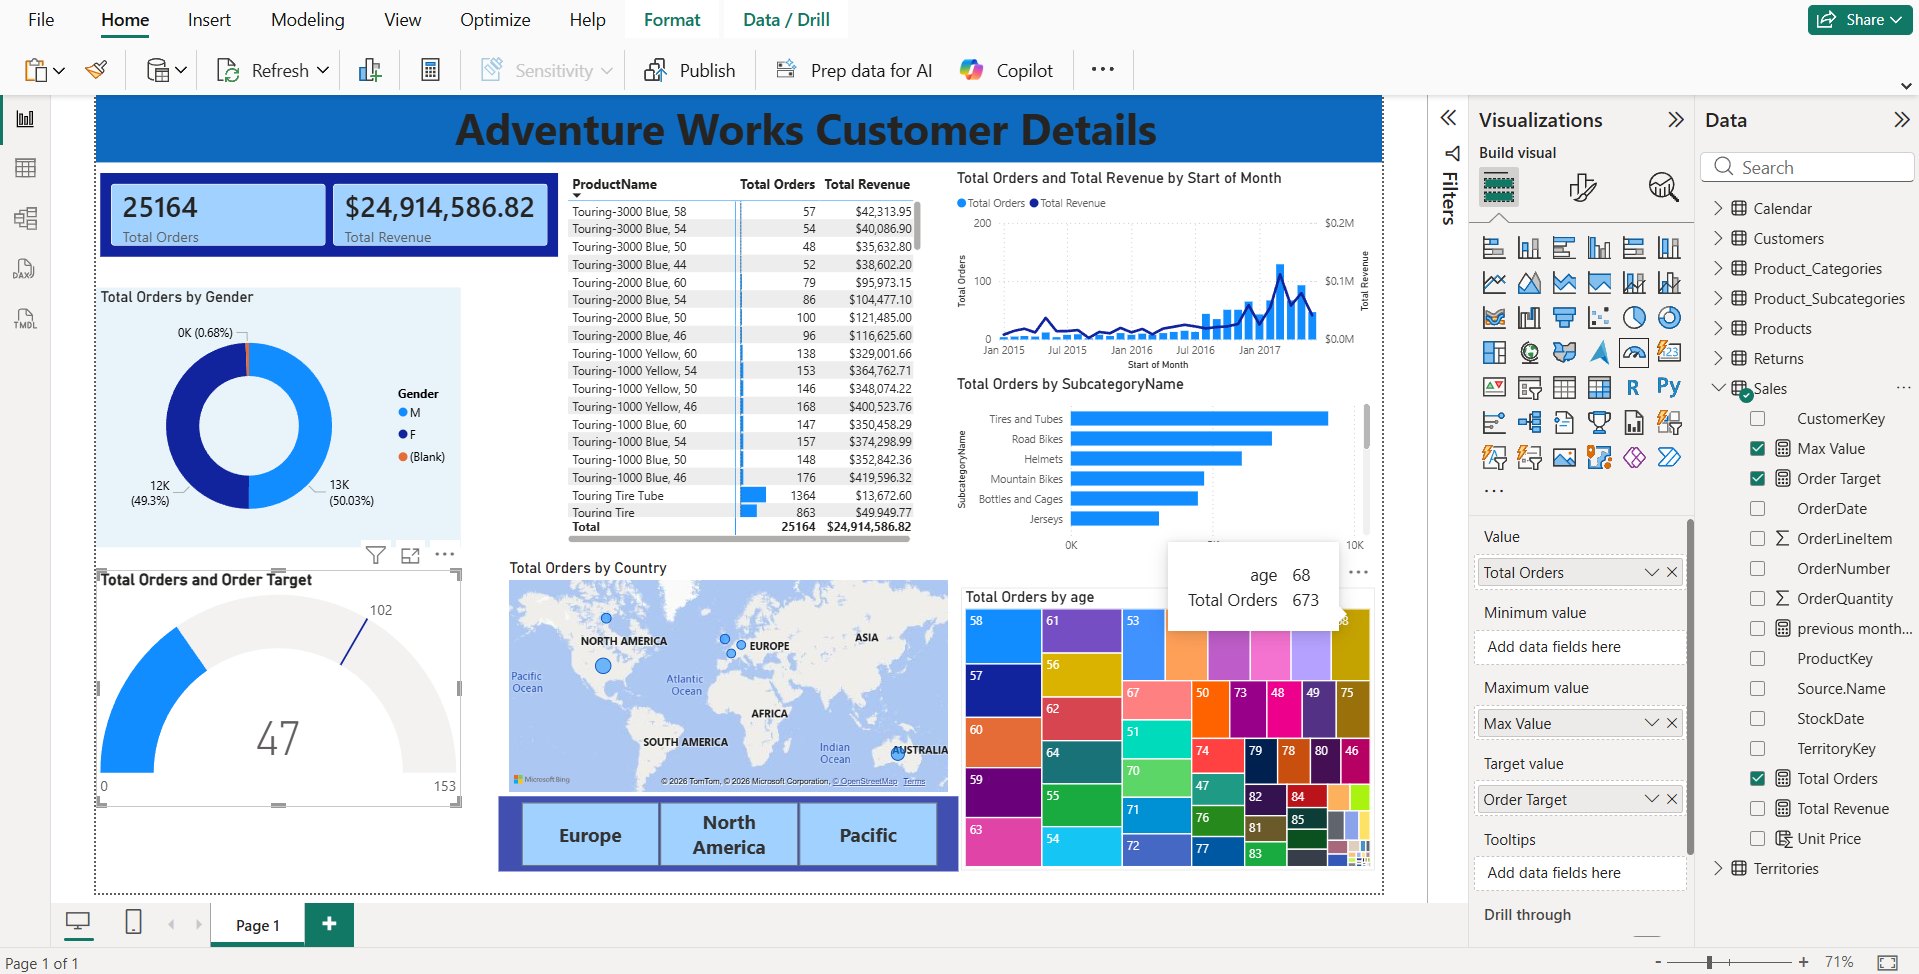

What the dashboard file says about the page in this screenshot:
{"tool":"powerbi","page":{"name":"Page 1","canvas":[1450,900],"ordinal":0},"visuals":[{"type":"donutChart","fields":{"Category":["Customers.Gender"],"Y":["Sales.Total Orders"]},"box":[0,217,411.4,293.1],"z":0},{"type":"pivotTable","fields":{"Rows":["Products.ProductName"],"Values":["Sales.Total Orders","Sales.Total Revenue"]},"box":[526.9,83.1,408.6,426.9],"z":1000},{"type":"cardVisual","fields":{"Data":["Sales.Total Orders","Sales.Total Revenue"]},"box":[0,83.1,526.9,104.3],"z":2000},{"type":"lineClusteredColumnComboChart","fields":{"Y2":["Sales.Total Revenue"],"Y":["Sales.Total Orders"],"Category":["Calendar.Start of Month"]},"box":[965.1,83.1,476.2,232.5],"z":3000},{"type":"treemap","fields":{"Group":["Customers.age"],"Values":["Sales.Total Orders"]},"box":[975,555.1,466.3,319.8],"z":4000},{"type":"clusteredBarChart","fields":{"Category":["Product_Subcategories.SubcategoryName"],"Y":["Sales.Total Orders"]},"box":[965.1,315.6,476.2,219.8],"z":5000},{"type":"map","fields":{"Category":["Territories.Country"],"Size":["Sales.Total Orders"]},"box":[461.1,522.3,504,268],"z":6000},{"type":"slicer","fields":{"Values":["Territories.Continent"]},"box":[454.1,790.3,518,85],"z":7000},{"type":"gauge","title":"Total Orders and Order Target","fields":{"Y":["Sales.Total Orders"],"TargetValue":["Sales.Order Target"],"MaxValue":["Sales.Max Value"]},"box":[0,535.4,411.4,267.7],"z":8000},{"type":"textbox","box":[0,0,1600,76],"z":9000}]}

Visuals, with their boxes on the page's 1450x900 design canvas (x1, y1, x2, y2). These are canvas units, not pixel positions in the 1919x974 screenshot, which may show the page scaled, cropped or inside an application window:
donutChart - Customers.Gender x Sales.Total Orders: BBox(0, 217, 411, 510)
pivotTable - Products.ProductName x Sales.Total Orders: BBox(527, 83, 936, 510)
cardVisual - Sales.Total Orders x Sales.Total Revenue: BBox(0, 83, 527, 187)
lineClusteredColumnComboChart - Sales.Total Revenue x Sales.Total Orders: BBox(965, 83, 1441, 316)
treemap - Customers.age x Sales.Total Orders: BBox(975, 555, 1441, 875)
clusteredBarChart - Product_Subcategories.SubcategoryName x Sales.Total Orders: BBox(965, 316, 1441, 535)
map - Territories.Country x Sales.Total Orders: BBox(461, 522, 965, 790)
slicer - Territories.Continent: BBox(454, 790, 972, 875)
"Total Orders and Order Target" gauge: BBox(0, 535, 411, 803)
textbox: BBox(0, 0, 1600, 76)
